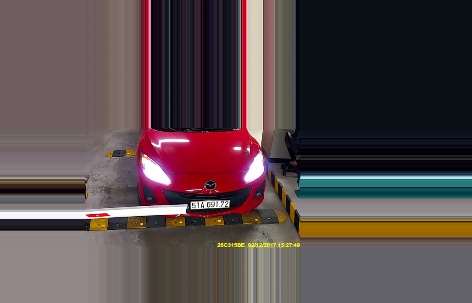plate: (190, 196, 231, 209)
